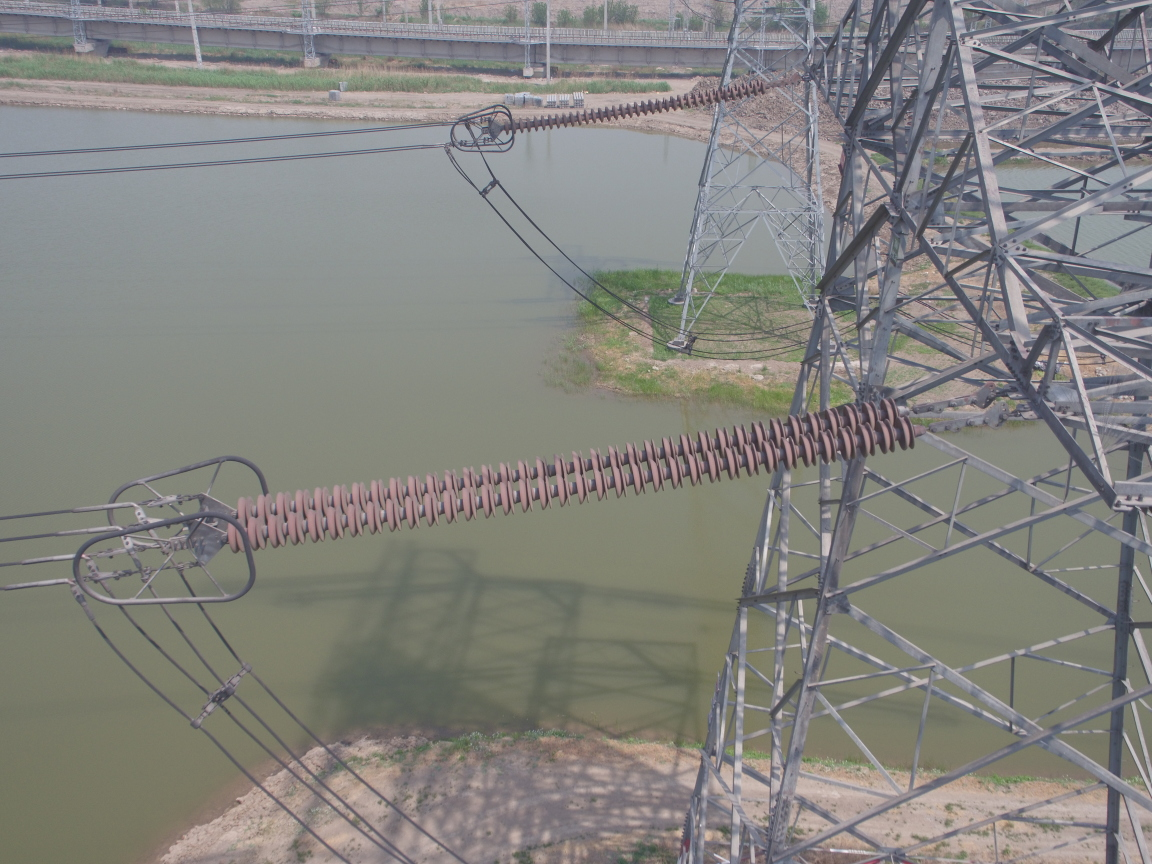insulator: (208, 394, 953, 556), (496, 74, 788, 134)
